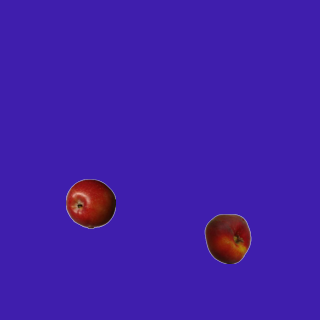Apple Braeburn: (65, 178, 115, 228)
Nectarine Flat: (202, 213, 252, 263)
